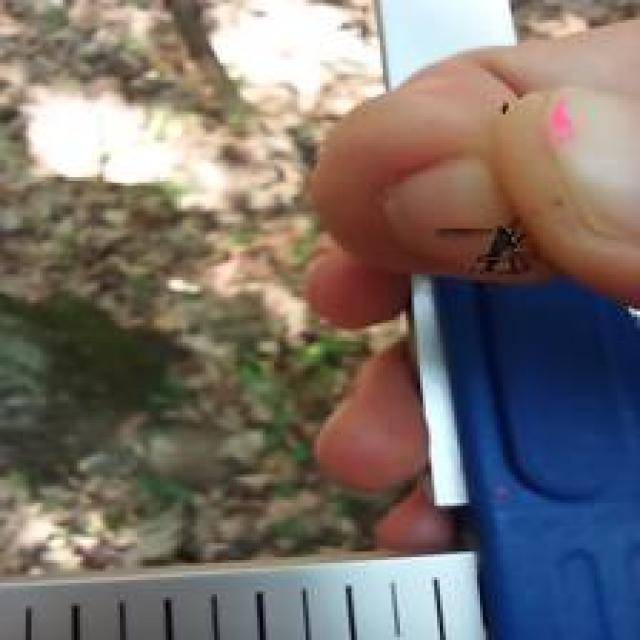Aedes albopictus: (476, 223, 533, 277)
